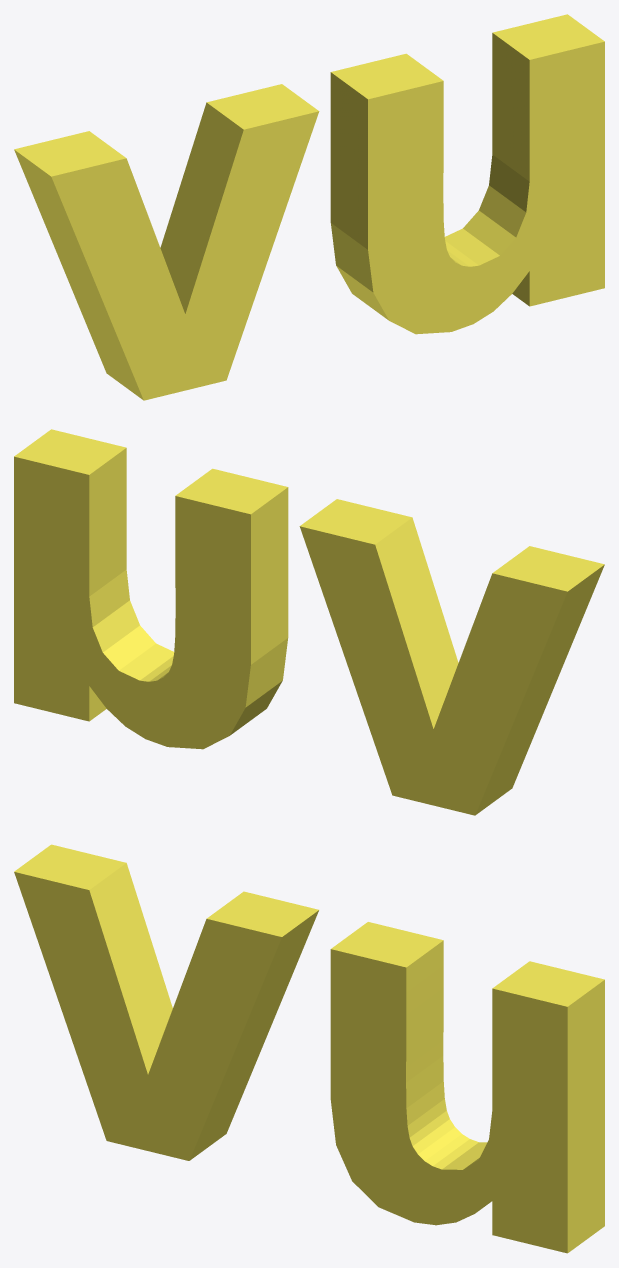
Rendered from suku_kecil_vu.glb.
The picture shows the model from 3 angles, top to bottom: view 1: azimuth 30°, elevation 25°; view 2: azimuth 150°, elevation 25°; view 3: azimuth 330°, elevation 25°; orthographic projection.
Visible parts, largest first — view 1: geometry_0; view 2: geometry_0; view 3: geometry_0.
Part boxes in pixels (box(x1,y1,x2,y2)): geometry_0: box(14, 14, 604, 400); geometry_0: box(14, 429, 604, 815); geometry_0: box(14, 844, 604, 1253).
Size of the model in its own units: 12.85 by 5.61 by 1.5.
